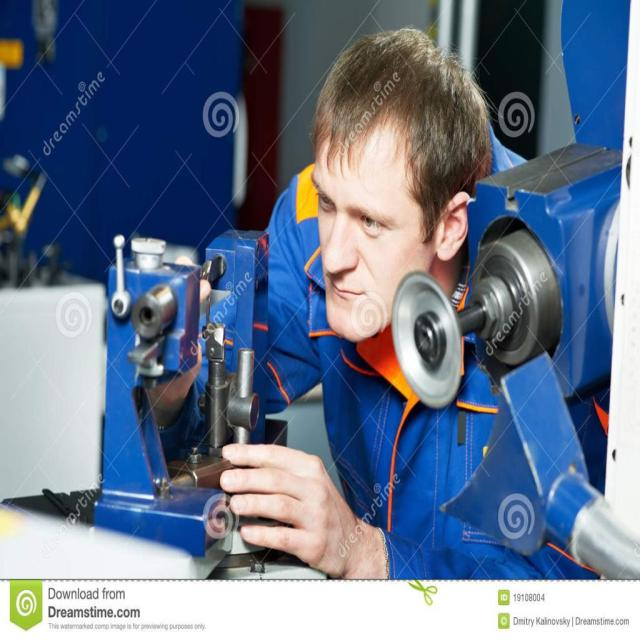Face: (298, 112, 442, 354)
